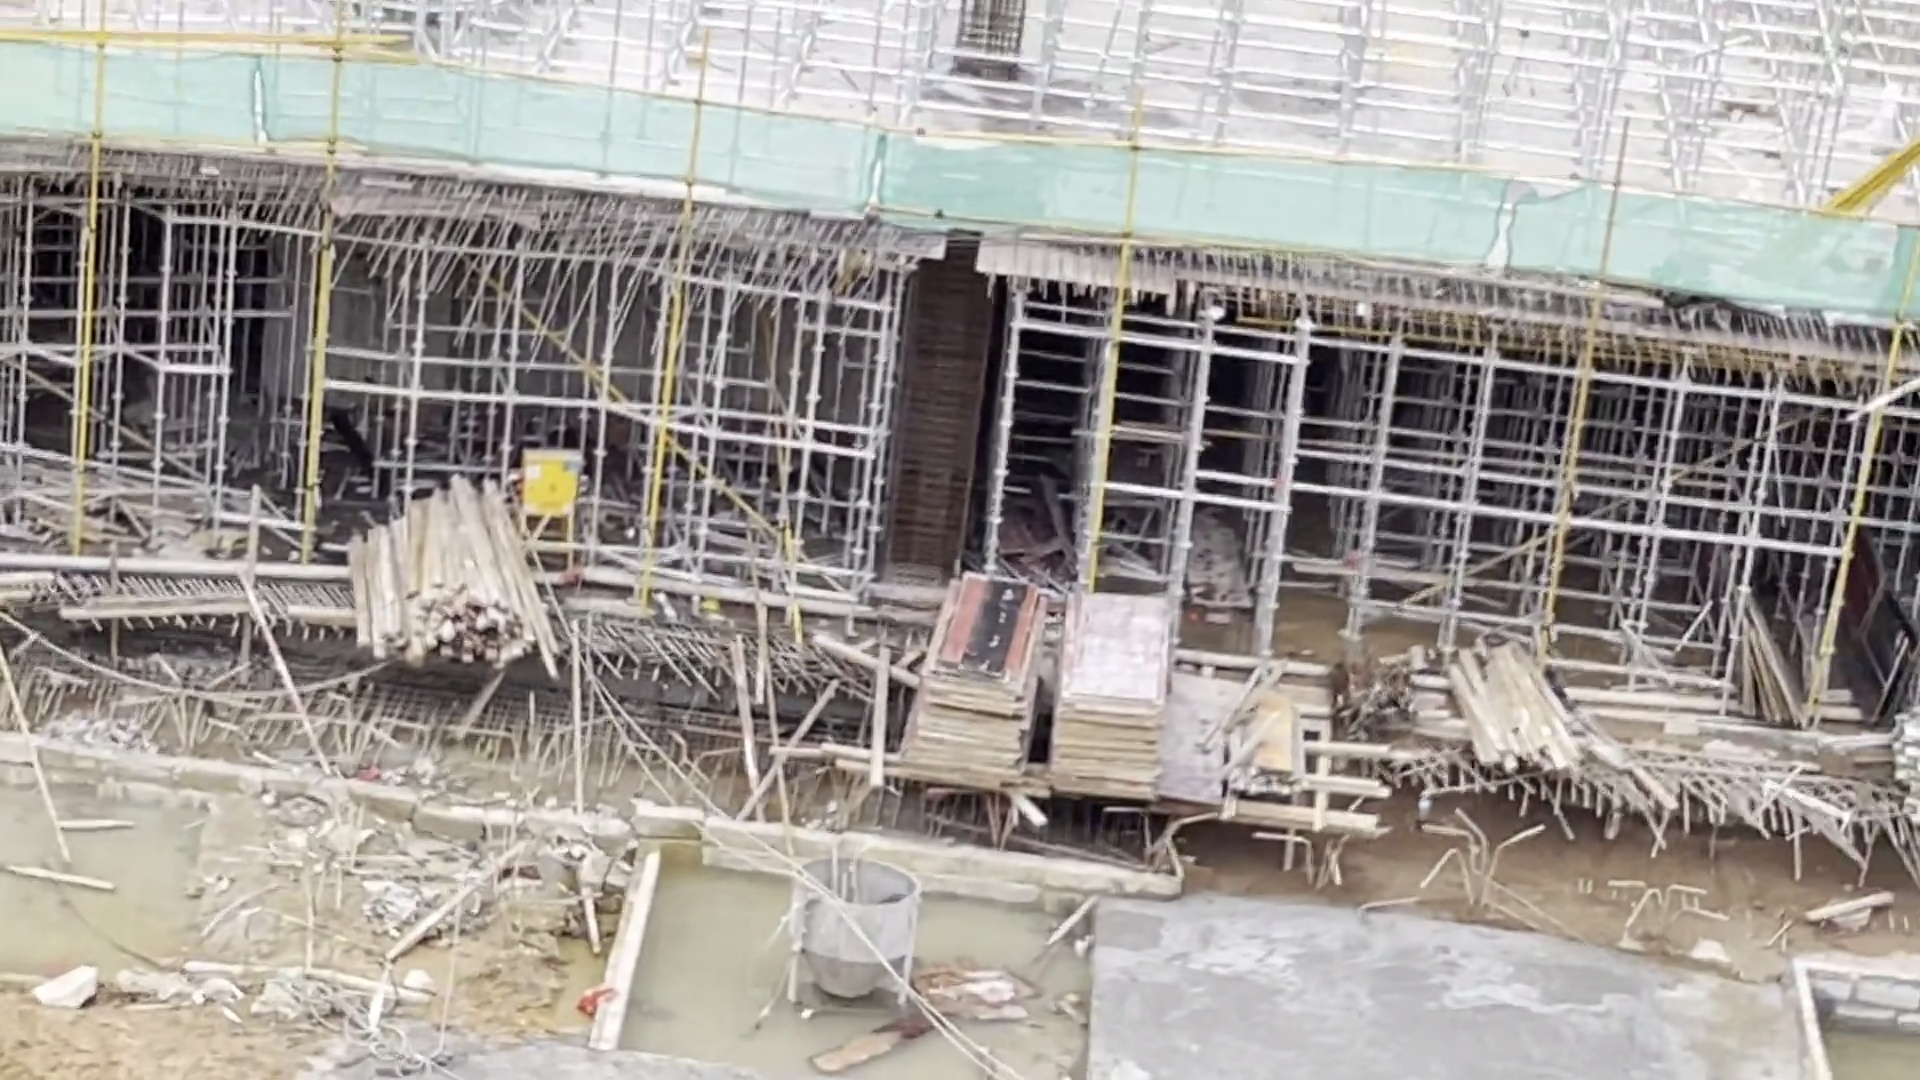board: (906, 560, 1182, 810)
ebox: (512, 444, 585, 530)
wood: (349, 476, 547, 676), (1458, 626, 1586, 774)
